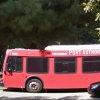Bus: (3, 42, 99, 99)
